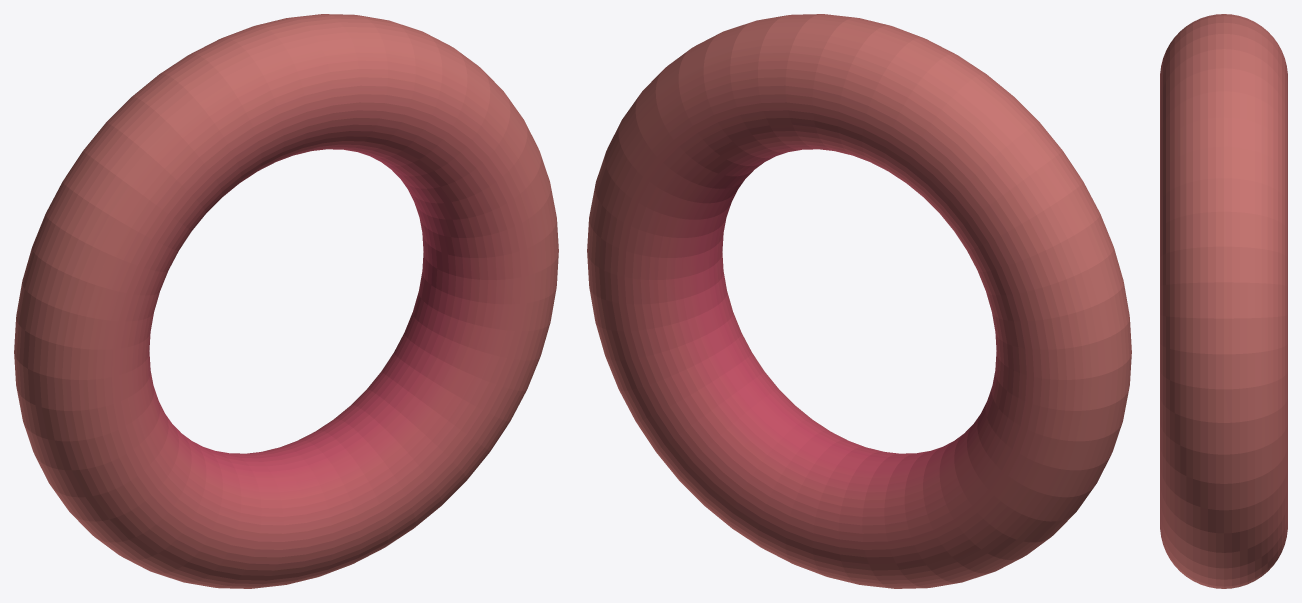
3 renders of one model, left to right at view 1: azimuth 30°, elevation 25°; view 2: azimuth 150°, elevation 25°; view 3: azimuth 270°, elevation 25°, orthographic. The views are drawn at different scales.
Parts seen in each view (by area): view 1: world; view 2: world; view 3: world.
Part boxes in pixels (<box>): world: <box>14,14,558,588</box>; world: <box>587,14,1131,588</box>; world: <box>1160,14,1287,588</box>.
Bounding box in the file's own units: 31.73 × 31.67 × 7.05.
